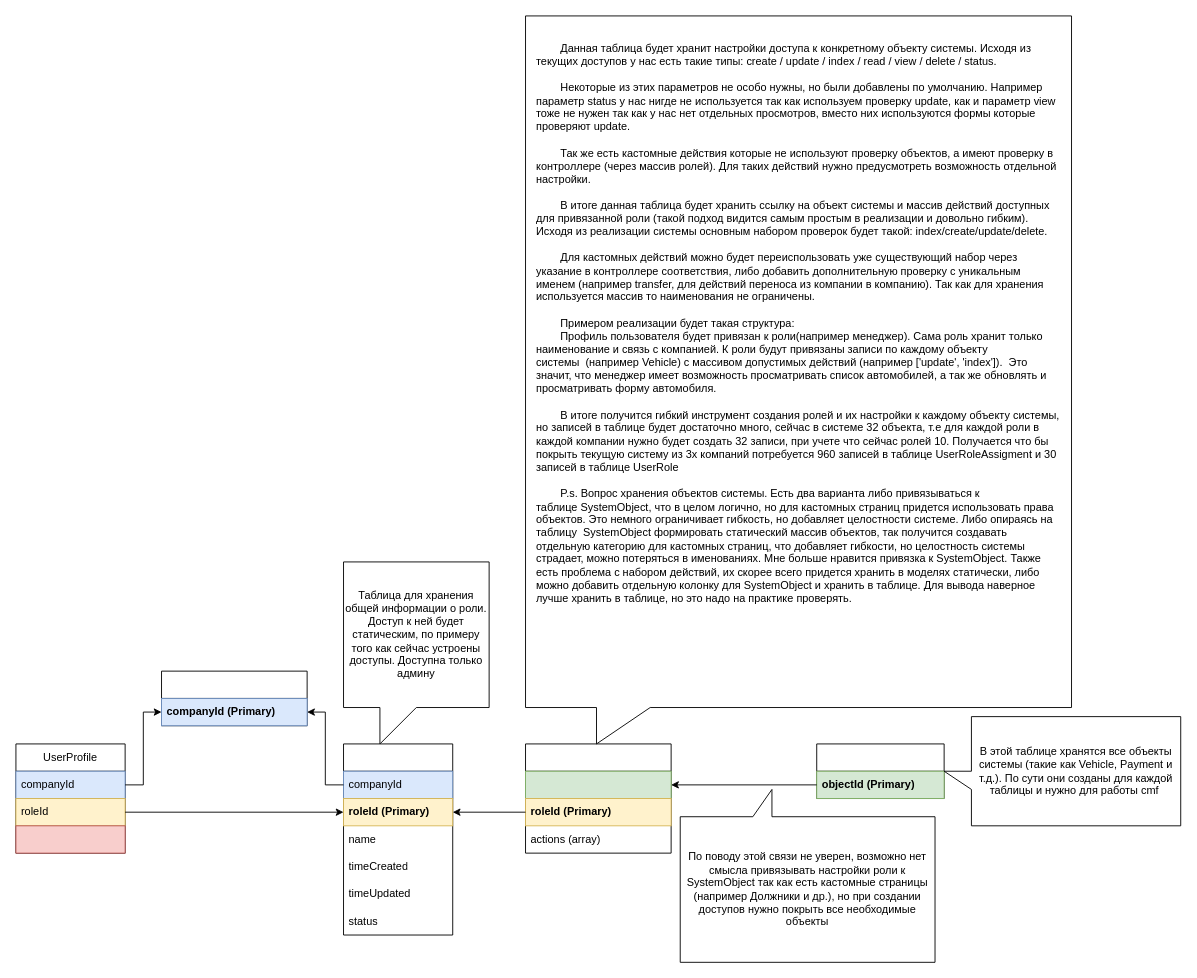
The diagram is 1197 pixels wide and 978 high, and some of its shapes have lost their labels. Each missing label, with the box of its shape:
objectId: (525, 770, 671, 799)
SystemObject: (816, 743, 944, 799)
UserCompany: (161, 670, 307, 726)
userId (Primary): (15, 825, 125, 853)
UserRole: (343, 743, 453, 935)
UserRoleAssigment: (525, 743, 671, 853)
